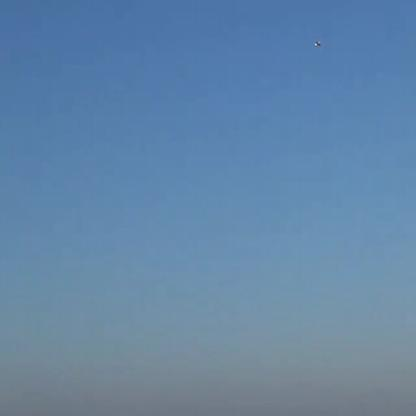CIV_Plane: (312, 36, 324, 52)
